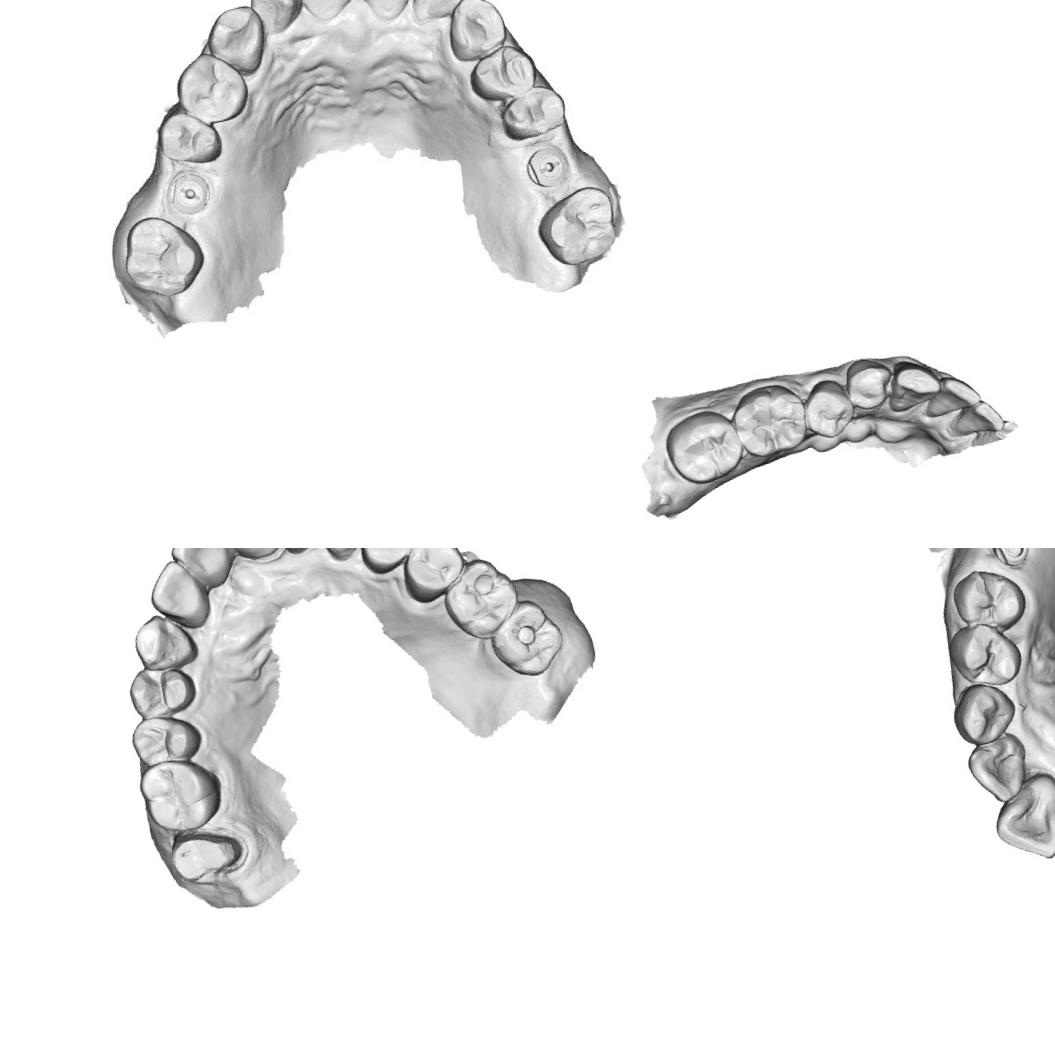canine: (946, 676, 1022, 753), (437, 0, 514, 68), (128, 606, 201, 675), (206, 1, 271, 74), (880, 354, 947, 417), (305, 548, 379, 567)
crown: (164, 819, 255, 890)
implant: (990, 548, 1036, 572)
implant_minus: (522, 139, 573, 192), (160, 168, 213, 218)
incisor: (986, 781, 1055, 869), (142, 554, 216, 636), (962, 734, 1028, 807), (920, 368, 986, 419), (164, 548, 237, 594), (949, 396, 1007, 442), (244, 0, 313, 36), (352, 0, 425, 23), (290, 0, 368, 20), (208, 548, 279, 567), (406, 0, 475, 18)
molar: (529, 176, 629, 276), (114, 204, 208, 306), (436, 551, 527, 648), (134, 748, 230, 839), (483, 592, 570, 684), (658, 404, 748, 492), (726, 377, 814, 463)
premolar: (166, 46, 252, 130), (942, 614, 1027, 696), (948, 560, 1032, 639), (122, 657, 200, 725), (150, 103, 225, 172), (126, 707, 206, 771), (464, 38, 541, 104), (493, 79, 571, 144), (393, 548, 471, 607), (798, 374, 860, 444), (840, 352, 899, 414), (353, 548, 428, 578)
